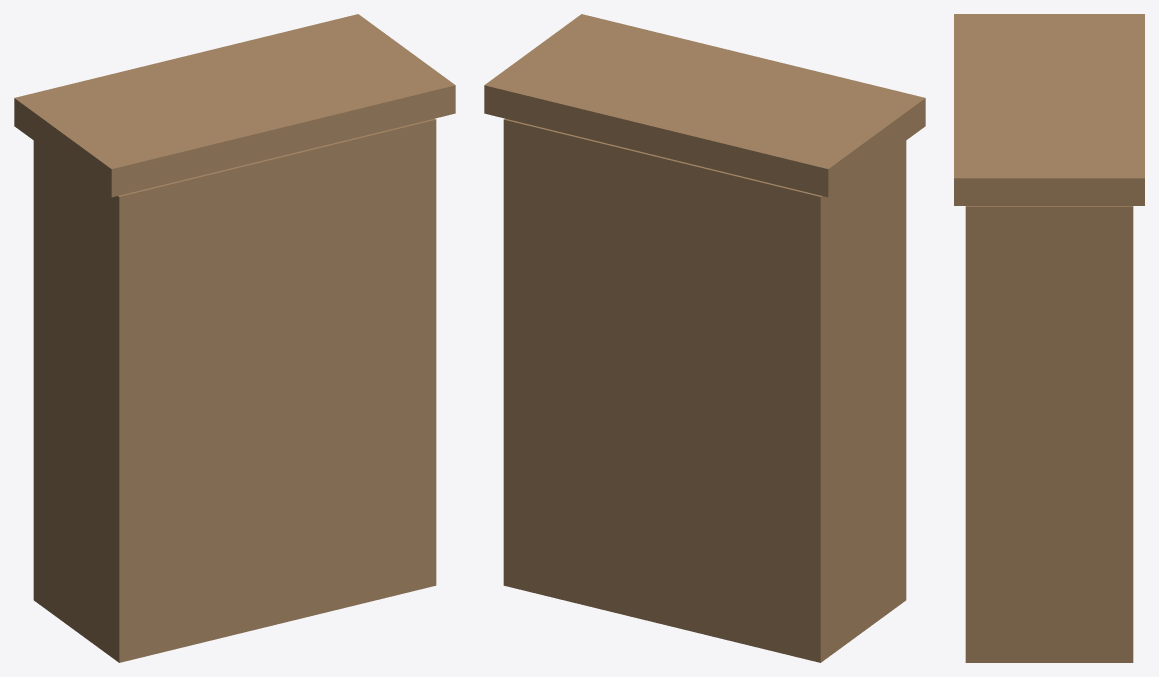
The model's file is cabinet_wood.gltf.
3 views of the same model, side by side, from view 1: azimuth 30°, elevation 25°; view 2: azimuth 150°, elevation 25°; view 3: azimuth 270°, elevation 25° (orthographic). The views are drawn at different scales.
Bounding box in the file's own units: 1.02 × 1.42 × 0.5.
